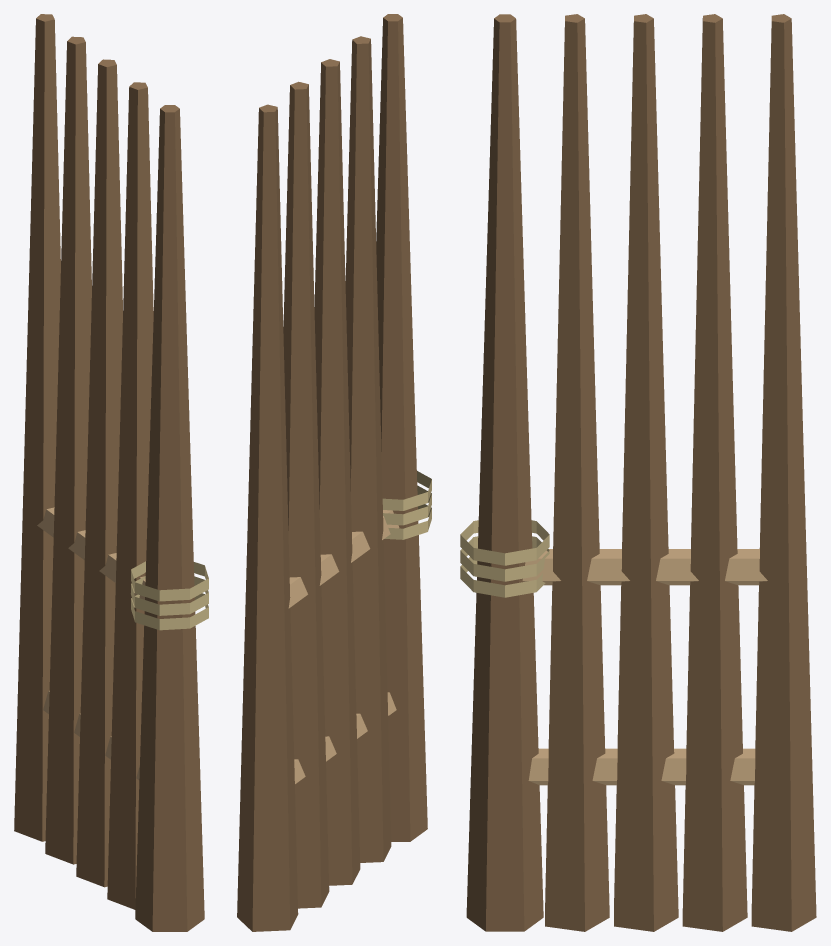
File: palisade_01.glb
The picture shows the model from 3 angles, left to right: view 1: azimuth 30°, elevation 25°; view 2: azimuth 150°, elevation 25°; view 3: azimuth 270°, elevation 25°; orthographic projection. The views are drawn at different scales.
Parts seen in each view (by area): view 1: palisade_01; view 2: palisade_01; view 3: palisade_01.
Part boxes in pixels (bbox=[...]): palisade_01: bbox=[14, 14, 208, 931]; palisade_01: bbox=[237, 14, 431, 931]; palisade_01: bbox=[460, 14, 816, 931].
Size of the model in its own units: 0.162 by 1.8 by 0.646.
